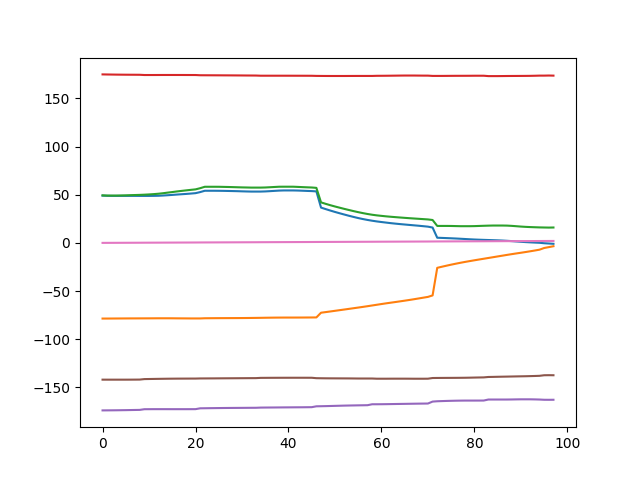Good_Bicep_Curl_Down: (1, 1, 640, 480)
